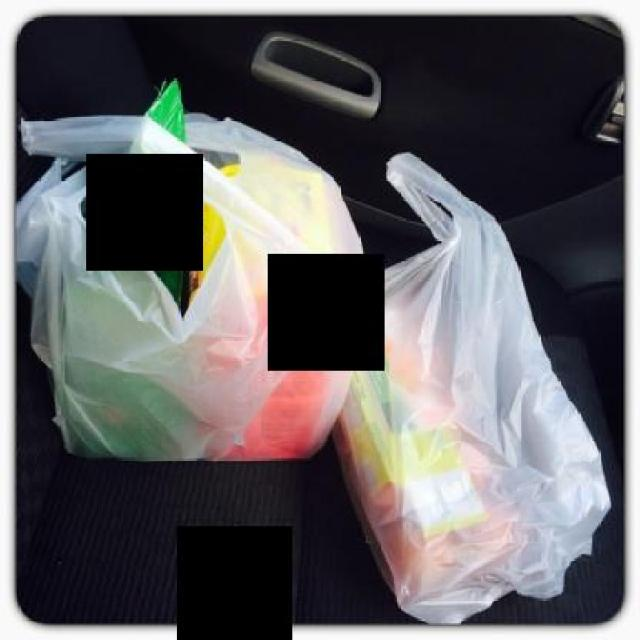plastic bag: (326, 148, 611, 628), (16, 108, 367, 464)
